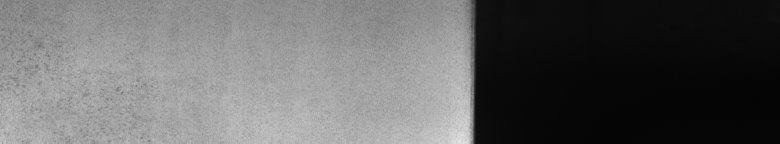ib: (9, 16, 152, 97)
